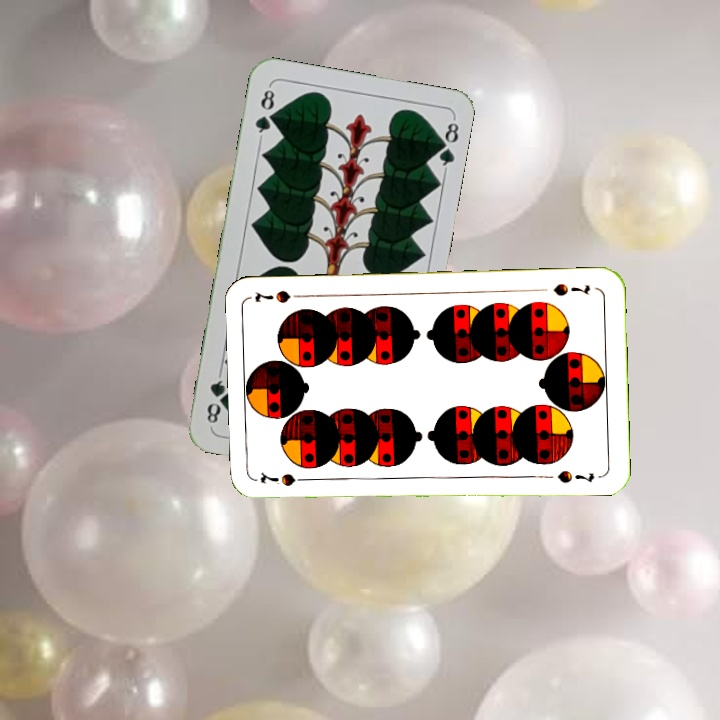G8: (251, 82, 277, 141)
S7: (256, 469, 314, 489), (549, 280, 593, 299)
